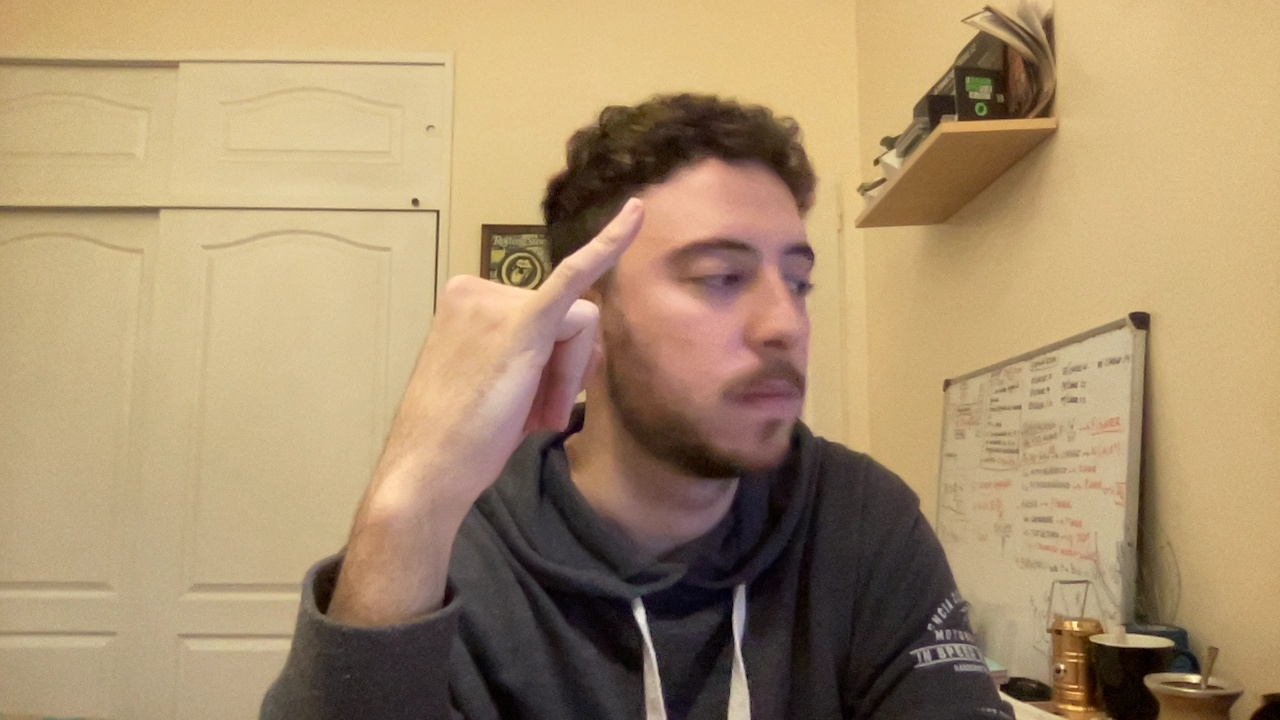menique: (348, 178, 656, 531)
